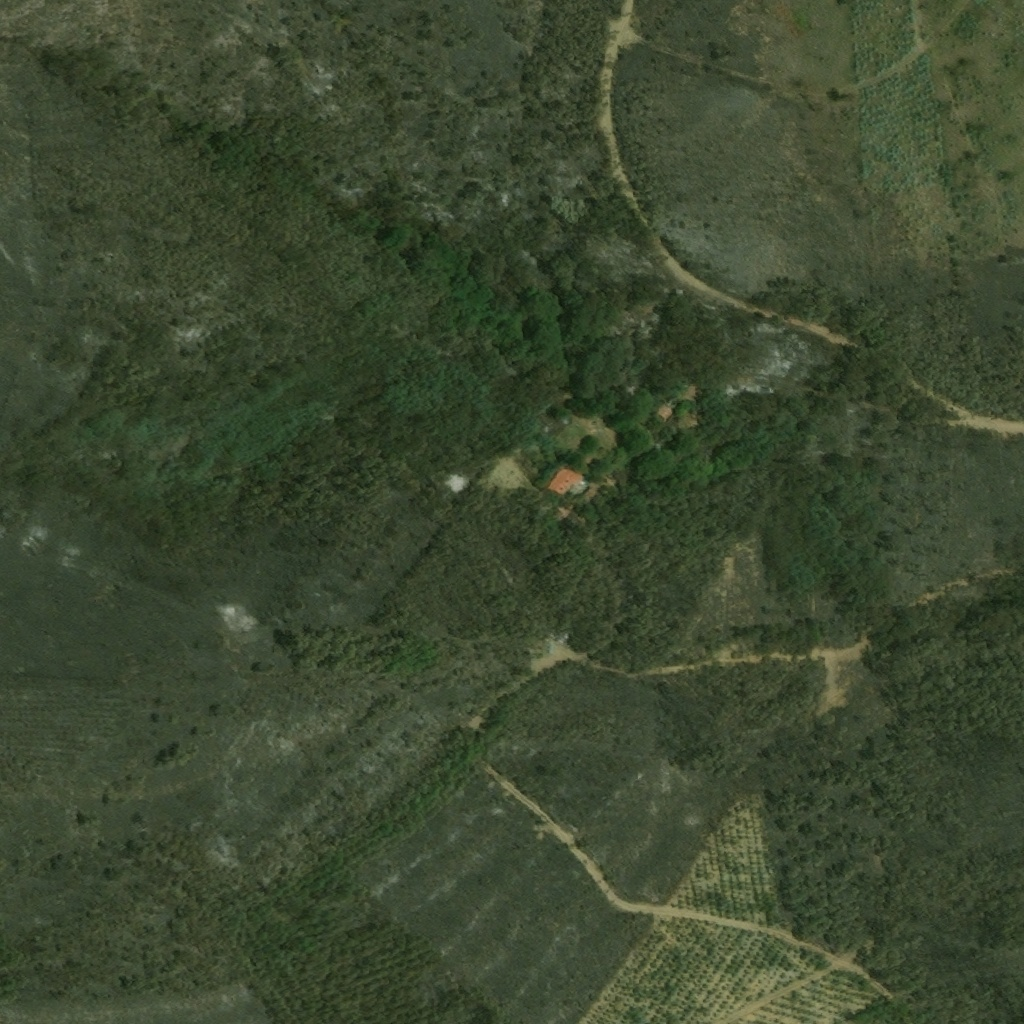0 no-damage: (540, 467, 584, 501), (654, 403, 674, 422)
